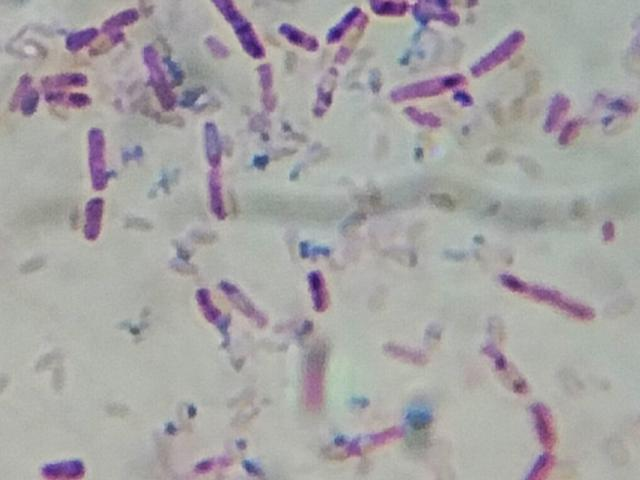E. coli: (500, 266, 601, 325), (212, 0, 268, 63), (466, 30, 527, 78), (483, 345, 525, 398), (388, 75, 468, 101), (145, 47, 175, 109), (303, 265, 334, 316), (87, 122, 110, 188), (313, 66, 339, 122), (190, 279, 219, 327), (250, 68, 280, 114), (279, 17, 314, 53), (532, 401, 559, 447), (202, 118, 224, 167), (85, 194, 105, 246), (40, 457, 85, 480), (329, 4, 356, 41), (99, 10, 144, 32), (207, 171, 227, 220), (543, 89, 563, 137), (47, 88, 92, 108), (66, 28, 103, 52), (10, 70, 30, 109), (373, 1, 410, 21), (528, 451, 551, 480), (43, 71, 88, 85), (377, 0, 405, 17), (26, 88, 38, 117)
